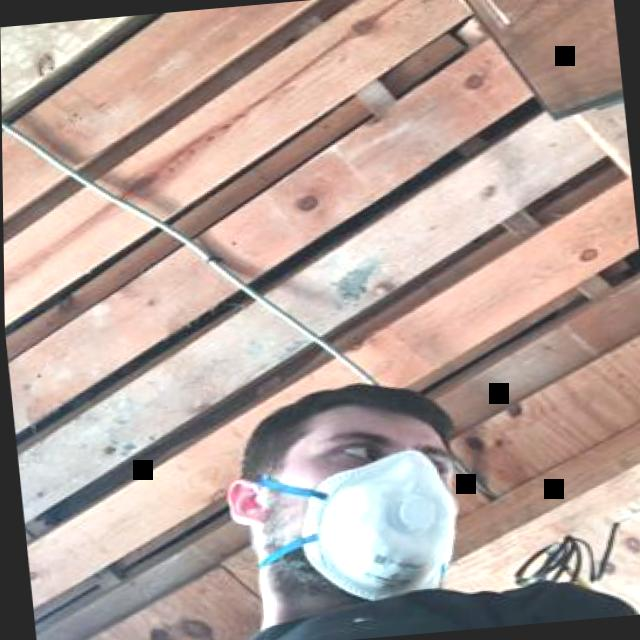Mask: (245, 414, 471, 606)
